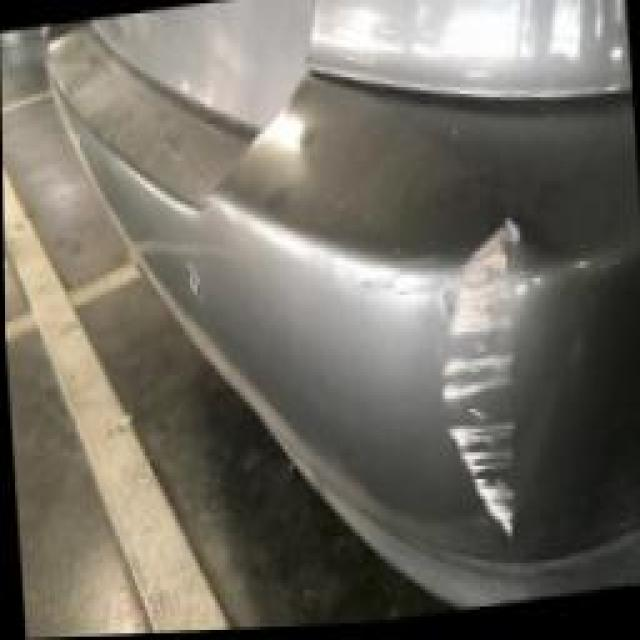Bumper: (282, 97, 606, 602)
